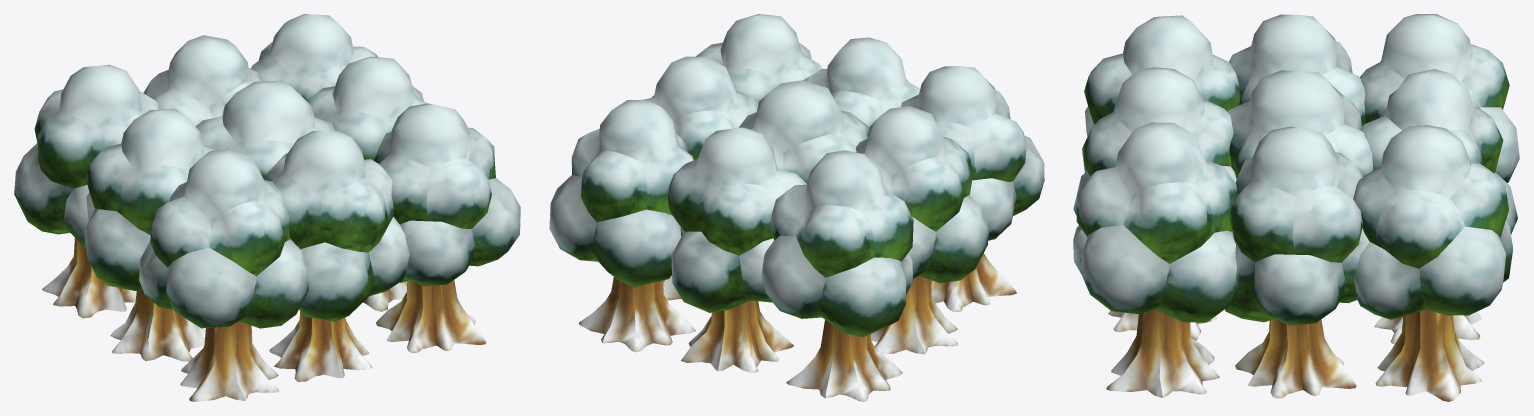
Rendered from Tree 5 - snow.fbx.
3 renders of one model, left to right at view 1: azimuth 30°, elevation 25°; view 2: azimuth 150°, elevation 25°; view 3: azimuth 270°, elevation 25°, orthographic. The views are drawn at different scales.
Visible parts, largest first — view 1: tree5_snow; view 2: tree5_snow; view 3: tree5_snow.
Boxes of the visible parts, left/top/right/bottom form: tree5_snow: left=14, top=14, right=520, bottom=401; tree5_snow: left=549, top=14, right=1044, bottom=401; tree5_snow: left=1073, top=14, right=1519, bottom=401.
Bounding box in the file's own units: 3.43 × 2.05 × 3.36.
